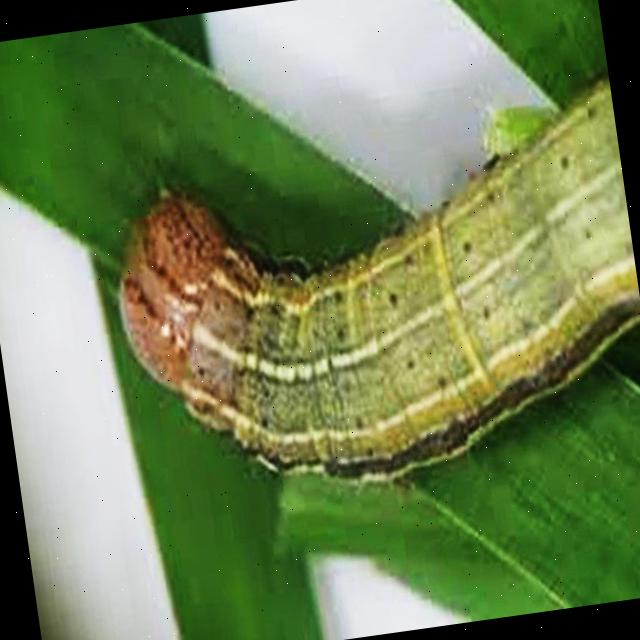worm: (96, 76, 640, 521)
